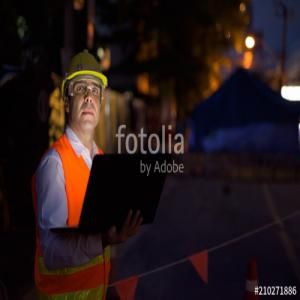yellow: (62, 49, 109, 135)
